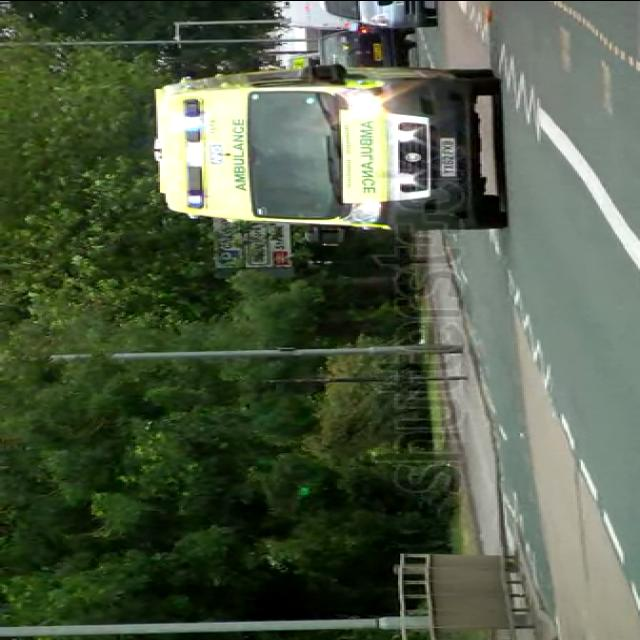ambulance: (150, 57, 504, 239)
